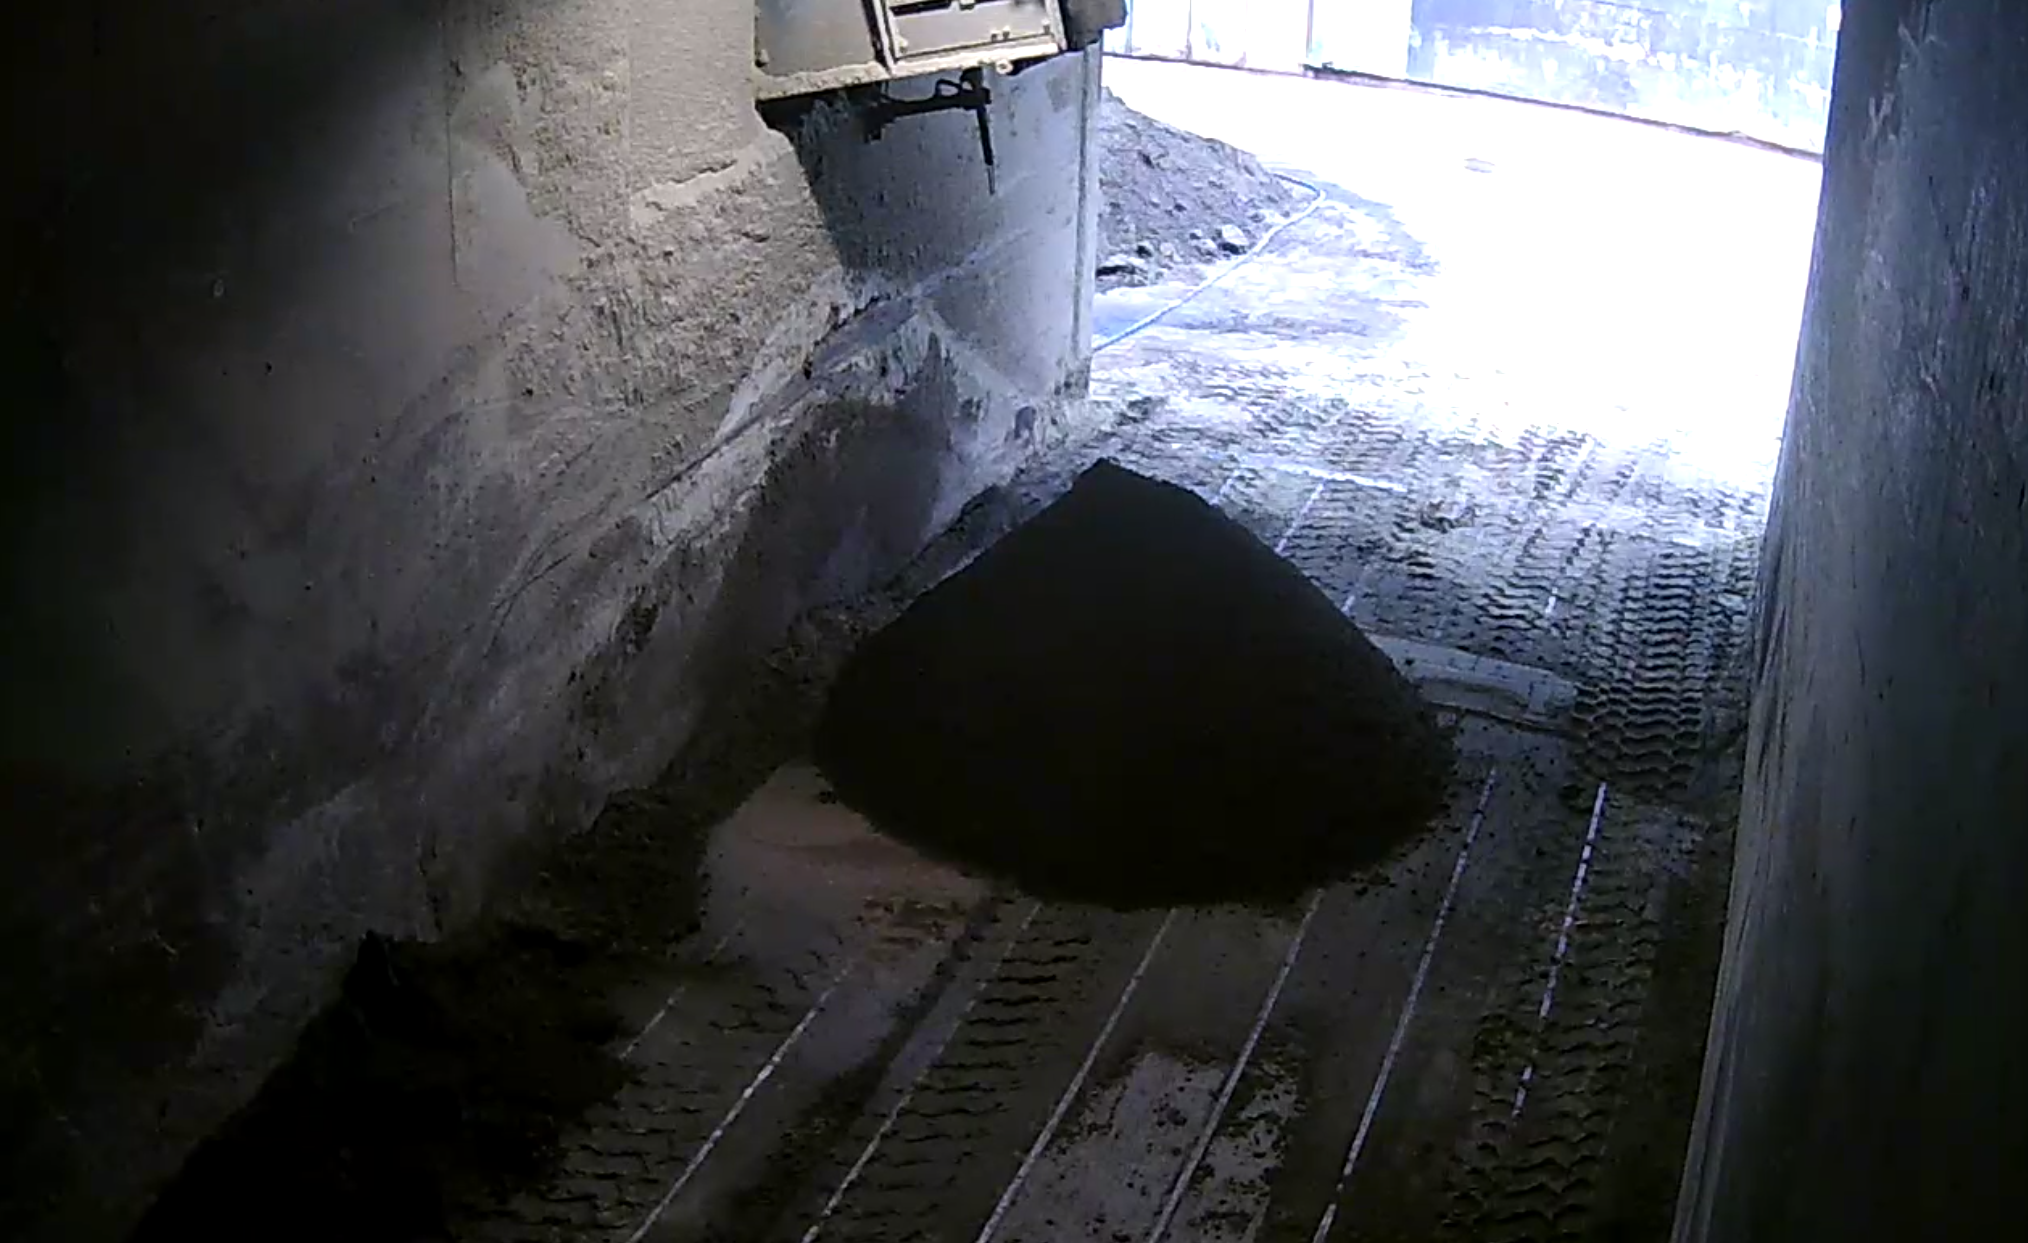pile: (829, 458, 1444, 913)
